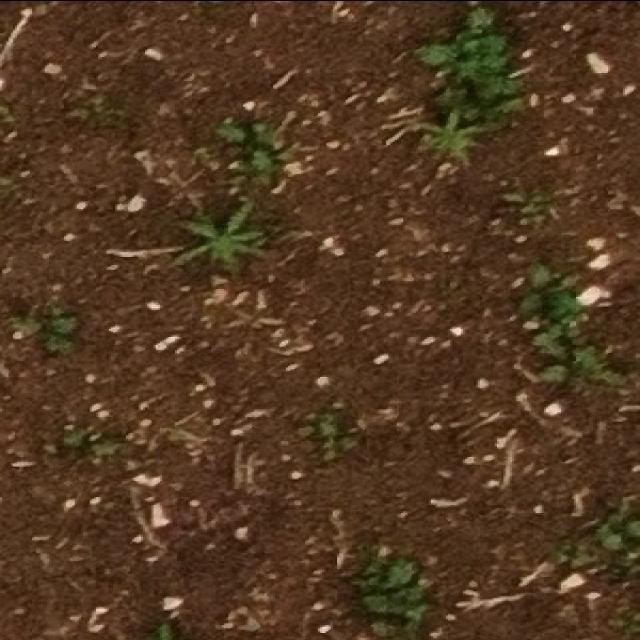cirse: (160, 208, 269, 278), (172, 188, 278, 257), (177, 203, 276, 270), (410, 109, 514, 171), (387, 101, 489, 164), (389, 105, 485, 171)
